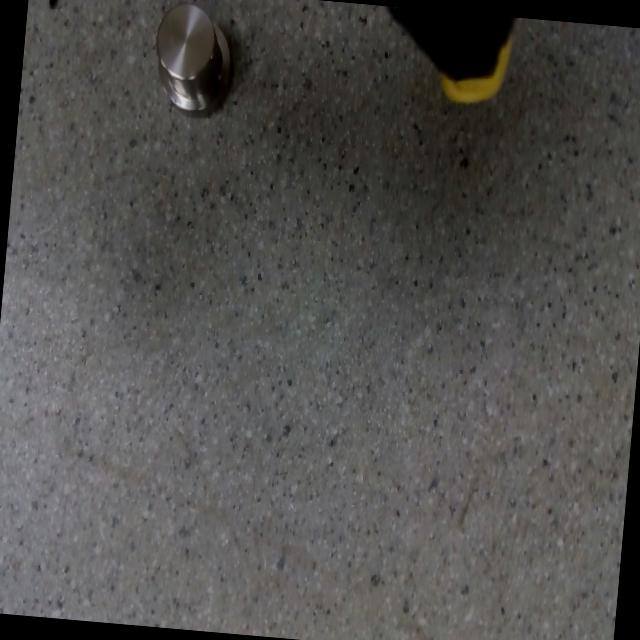sensor: (150, 2, 237, 118)
